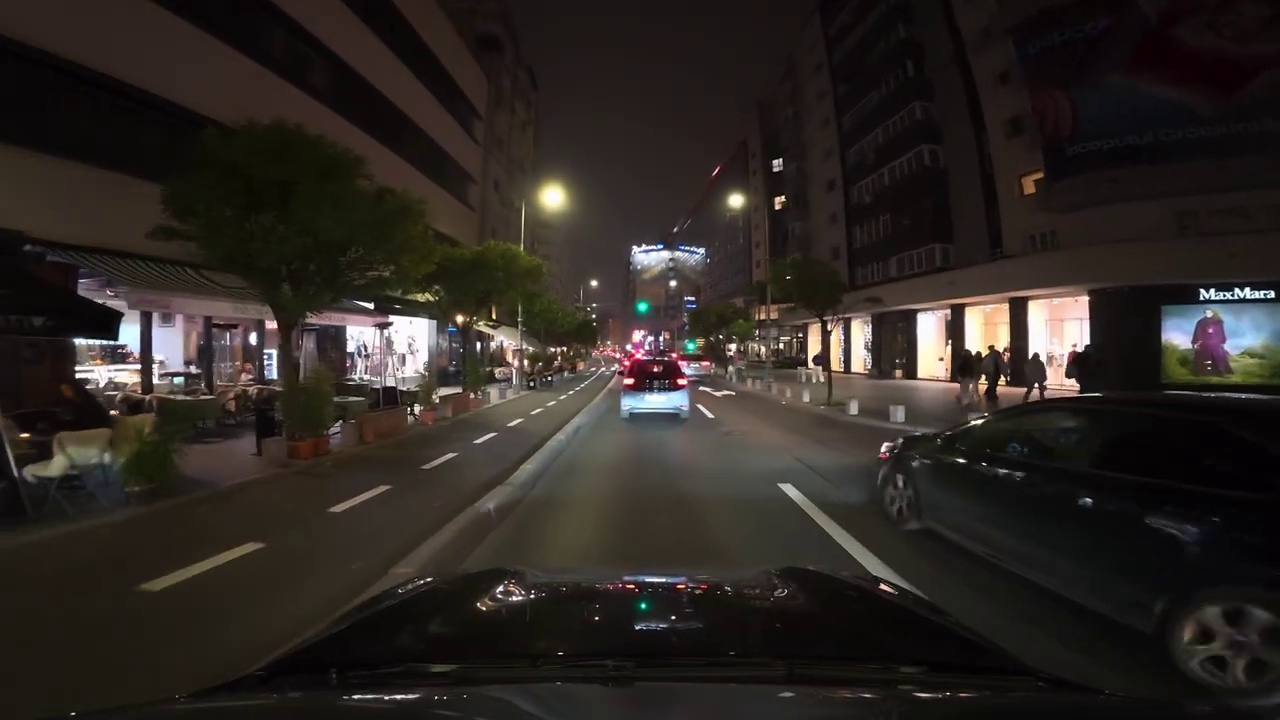acesa: (535, 182, 569, 214), (722, 188, 749, 215)
